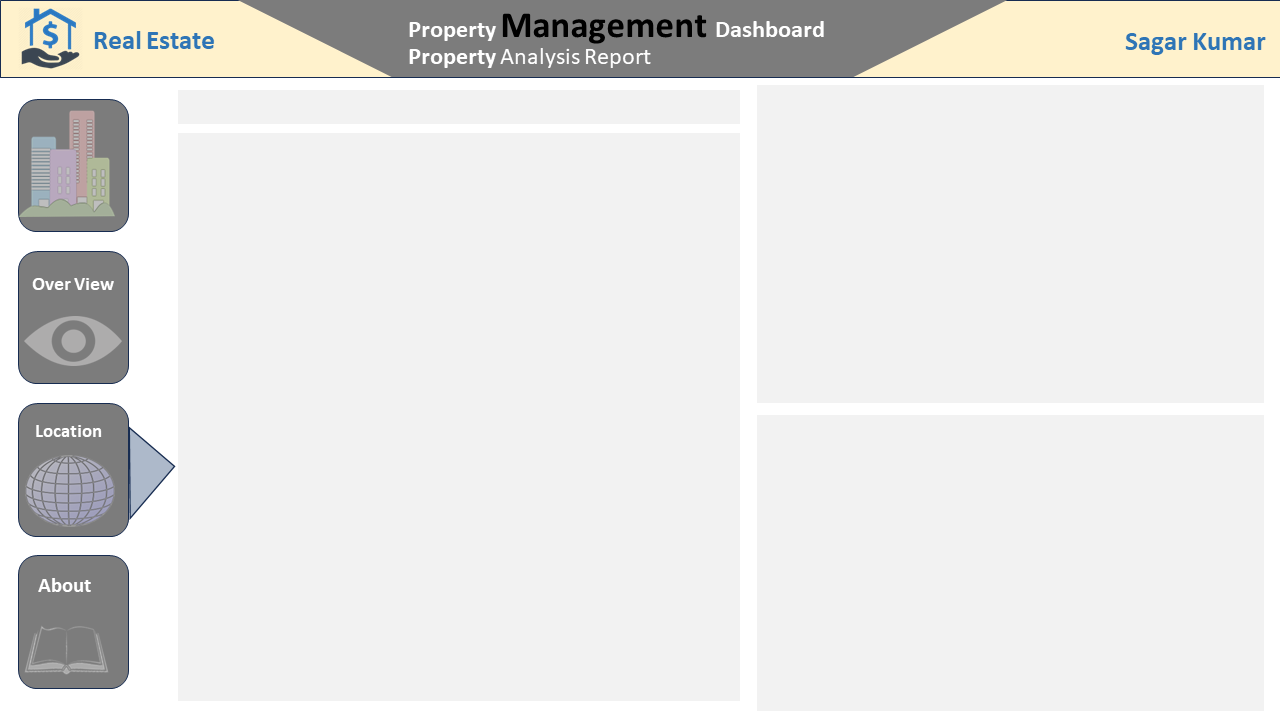

The page's visual inventory and layout, read from the dashboard file:
{"tool":"powerbi","page":{"name":"Location","canvas":[1280,720],"ordinal":1},"visuals":[{"type":"map","fields":{"Size":["Measures (2).Total Propeties"],"Category":["Fact_Table_House.Property location"],"Series":["Dim_Location.Property location"]},"box":[180.9,132.7,556,560.8],"z":0},{"type":"textbox","title":"Location by Properties","box":[180.9,90.5,556,30.2],"z":1000},{"type":"pivotTable","fields":{"Rows":["Dim_Floors status.Floors Status"],"Columns":["Dim_Condition status ID.Condition status"],"Values":["Measures (2).Total Propeties"]},"box":[759.8,90.5,499.3,300.3],"z":2000},{"type":"pivotTable","fields":{"Columns":["Dim_Condition status ID.Condition status"],"Values":["Measures (2).Total Propeties"],"Rows":["Dim_Bedrooms status.Bedrooms Status"]},"box":[759.8,401.6,499.3,303.9],"z":3000},{"type":"actionButton","box":[127.8,447.4,35,39.8],"z":4000}]}

Visuals, with their boxes in screenshot pixels (x1, y1, x2, y2), scaled from the page's 1280x720 canvas onto the 1280x720 screenshot:
map - Measures (2).Total Propeties x Fact_Table_House.Property location: (181, 133, 737, 694)
"Location by Properties" textbox: (181, 90, 737, 121)
pivotTable - Dim_Floors status.Floors Status x Dim_Condition status ID.Condition status: (760, 90, 1259, 391)
pivotTable - Dim_Condition status ID.Condition status x Measures (2).Total Propeties: (760, 402, 1259, 706)
actionButton: (128, 447, 163, 487)
